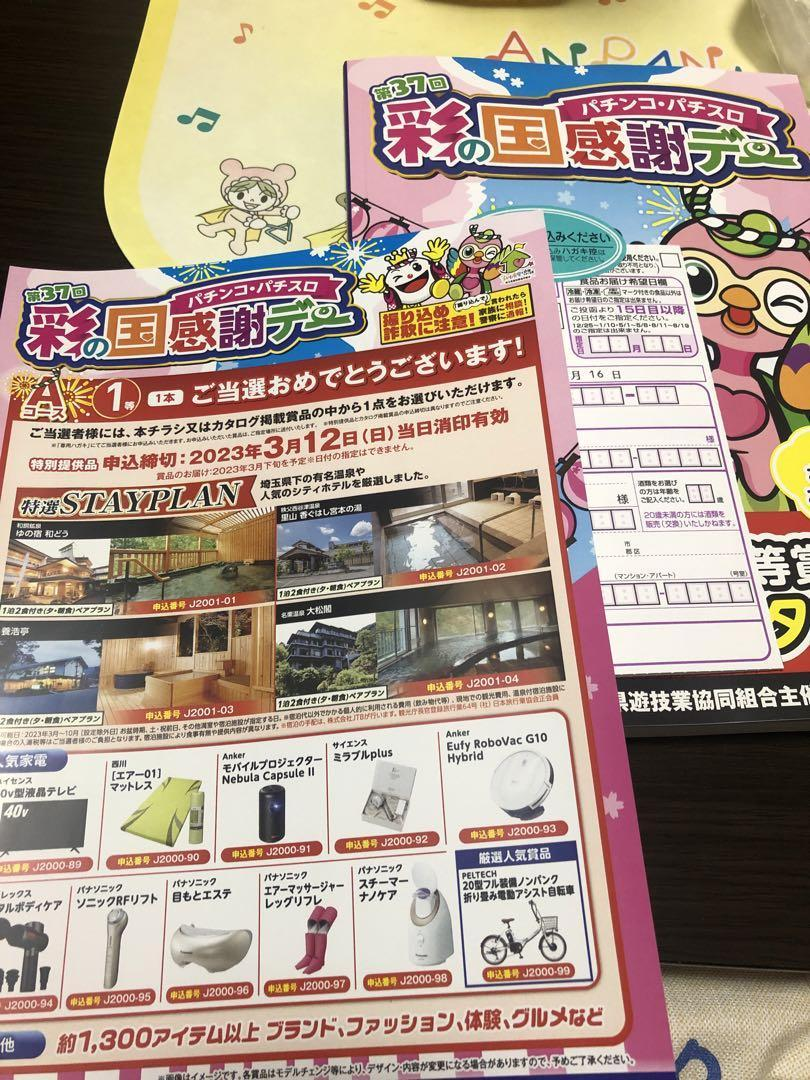paper: (0, 220, 672, 1080), (343, 55, 810, 738)
